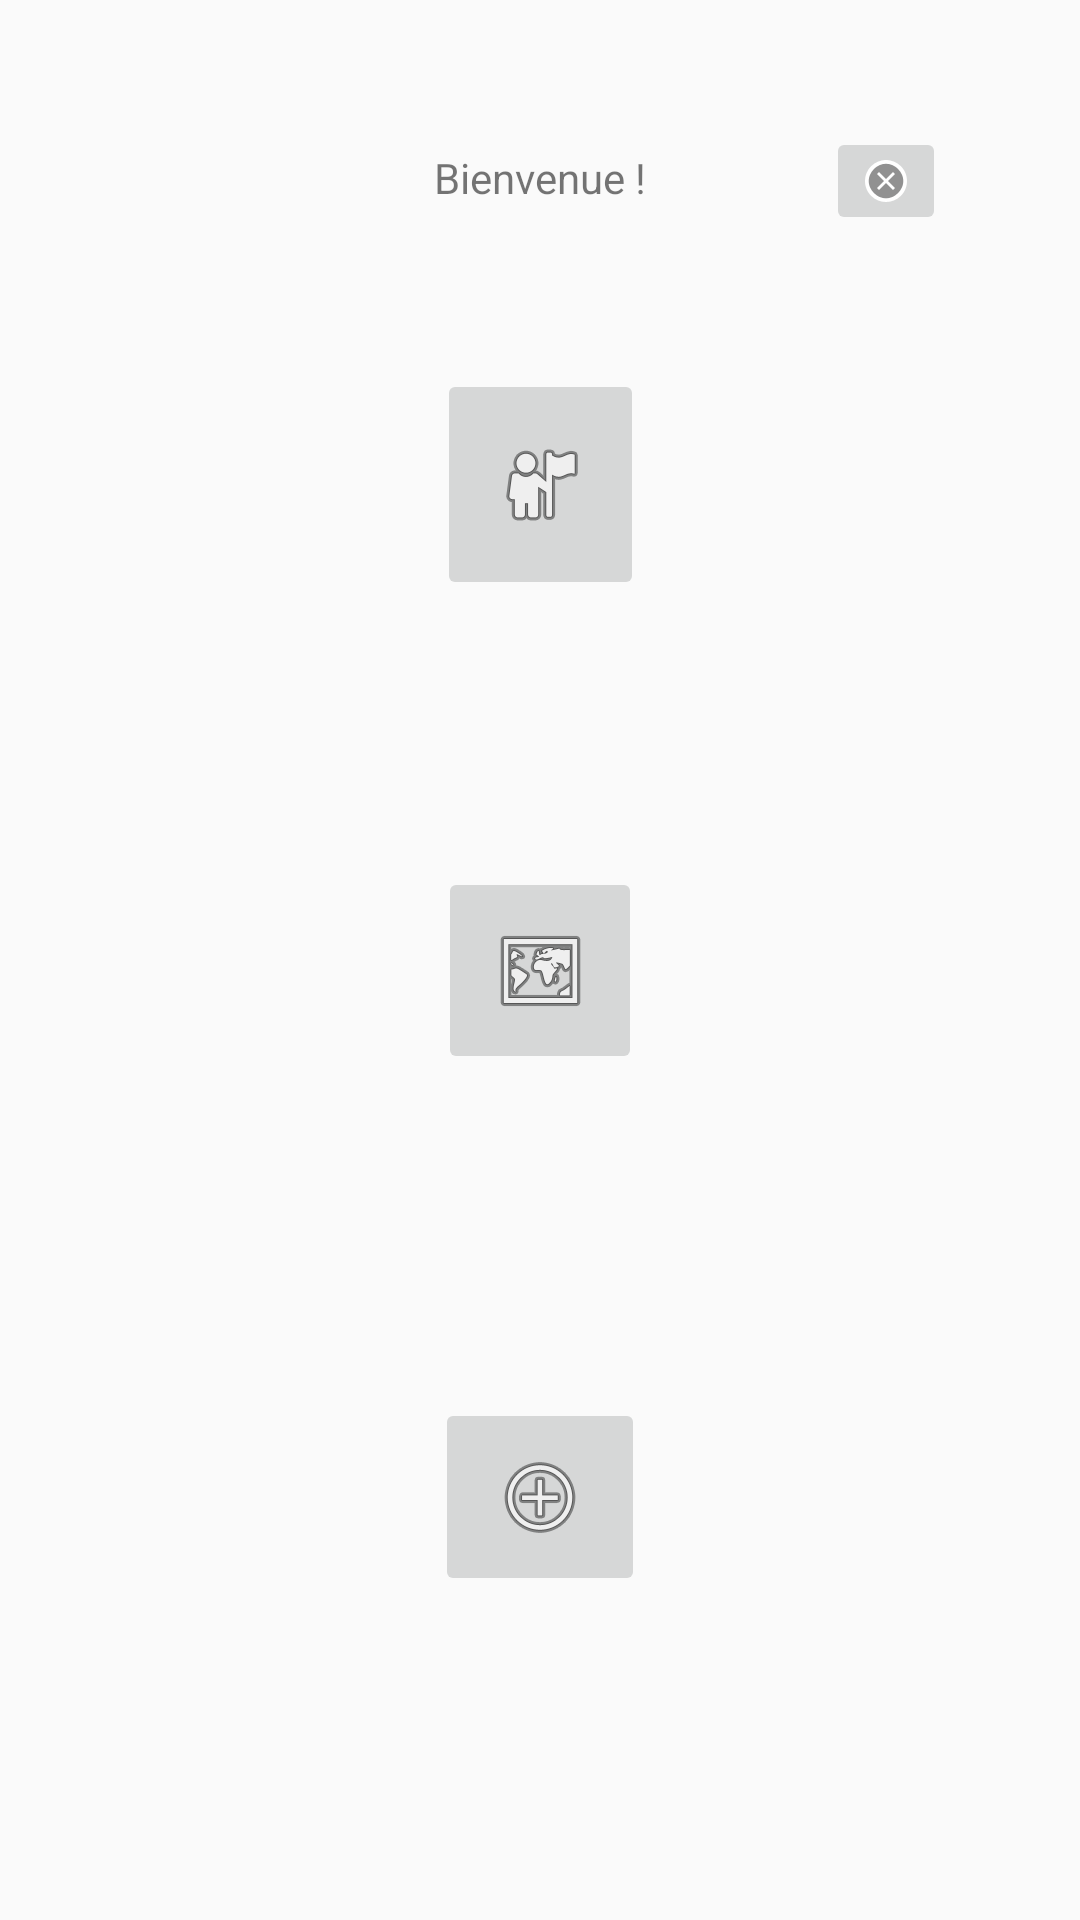

Icon bounding boxes for this 1080x1920 phone screenshot, format (x1, y1, x2, y2):
add: (447, 1416, 633, 1578)
mapmode: (450, 885, 630, 1056)
myplaces: (449, 387, 632, 582)
presence offline: (838, 145, 934, 217)
